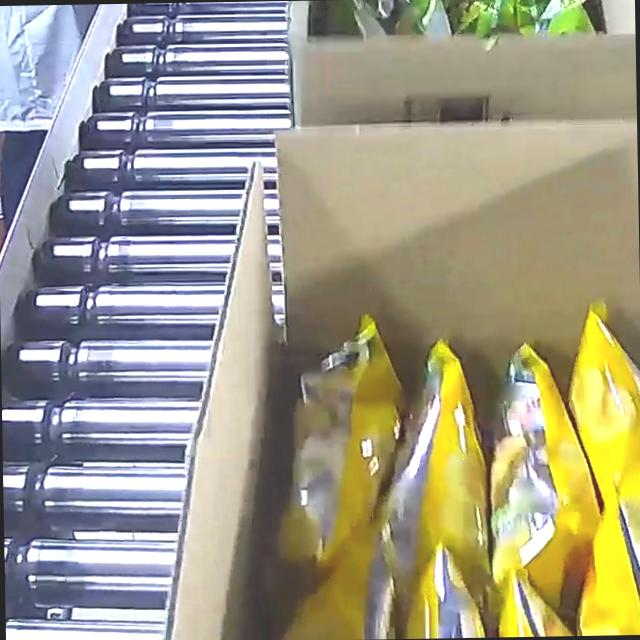salted: (291, 279, 640, 640)
yogurt: (321, 0, 632, 59)
